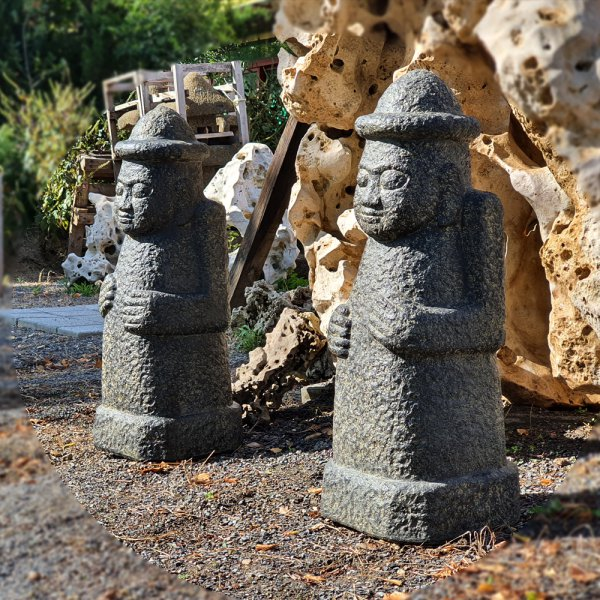Stone Statue: (305, 58, 529, 557), (83, 94, 256, 467)
